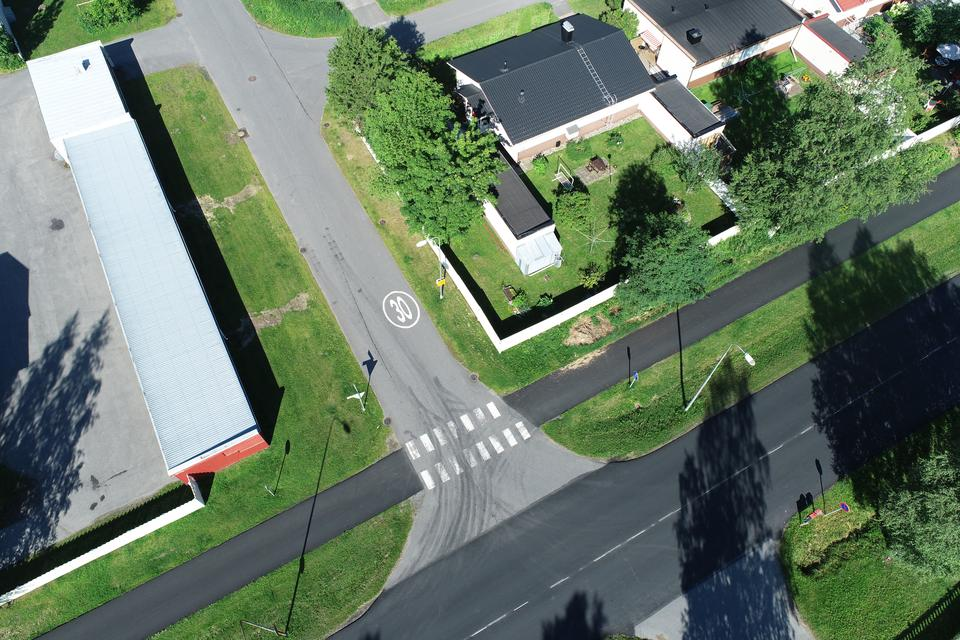intersection: (326, 358, 625, 579)
